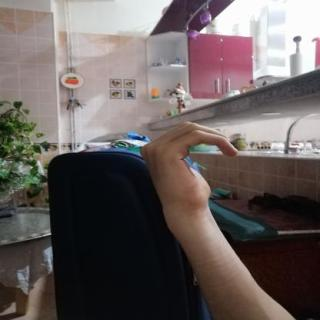HAA: (132, 114, 255, 223)
